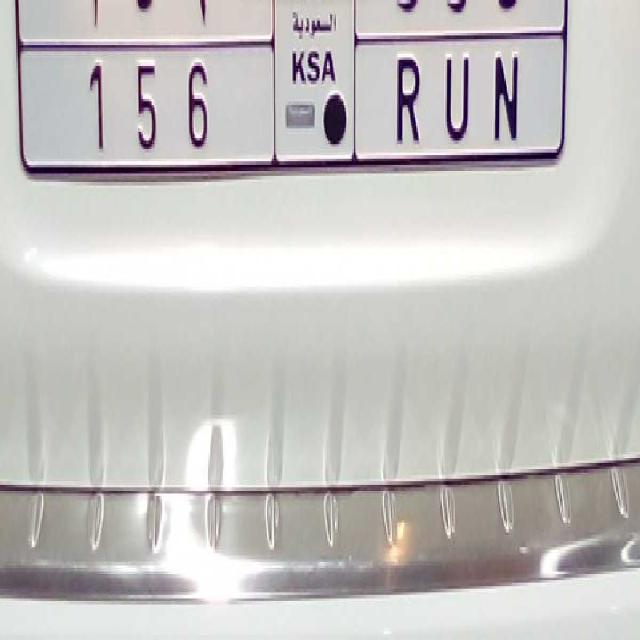license_plate: (58, 37, 540, 179)
